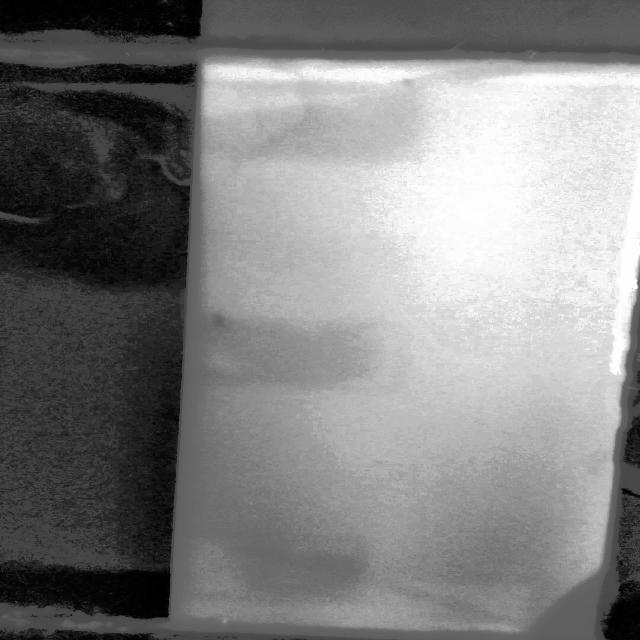shrimp: (207, 315, 229, 329)
